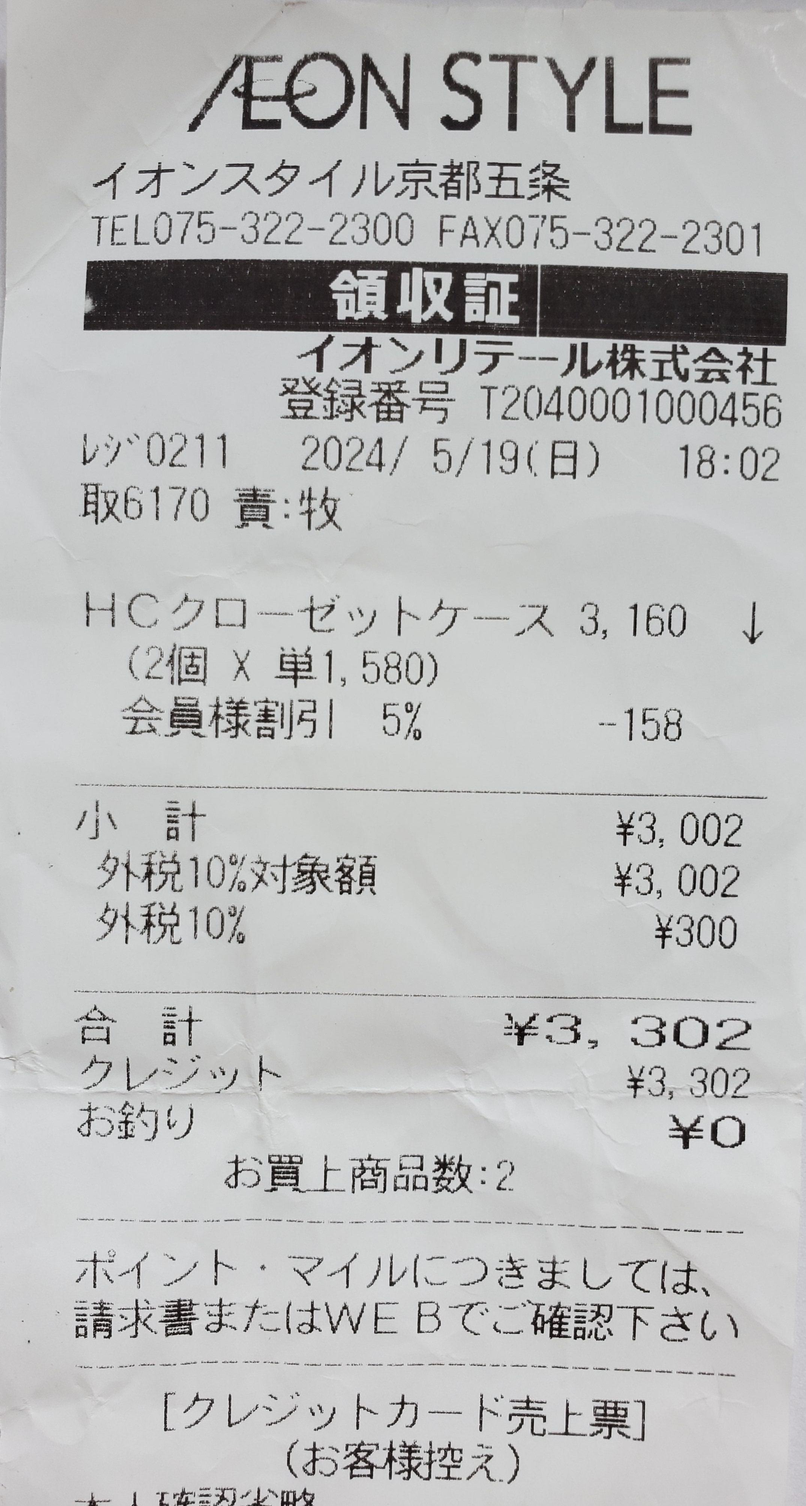TEL: (148, 208, 424, 245)
date: (287, 420, 525, 484)
total: (542, 1002, 765, 1058)
